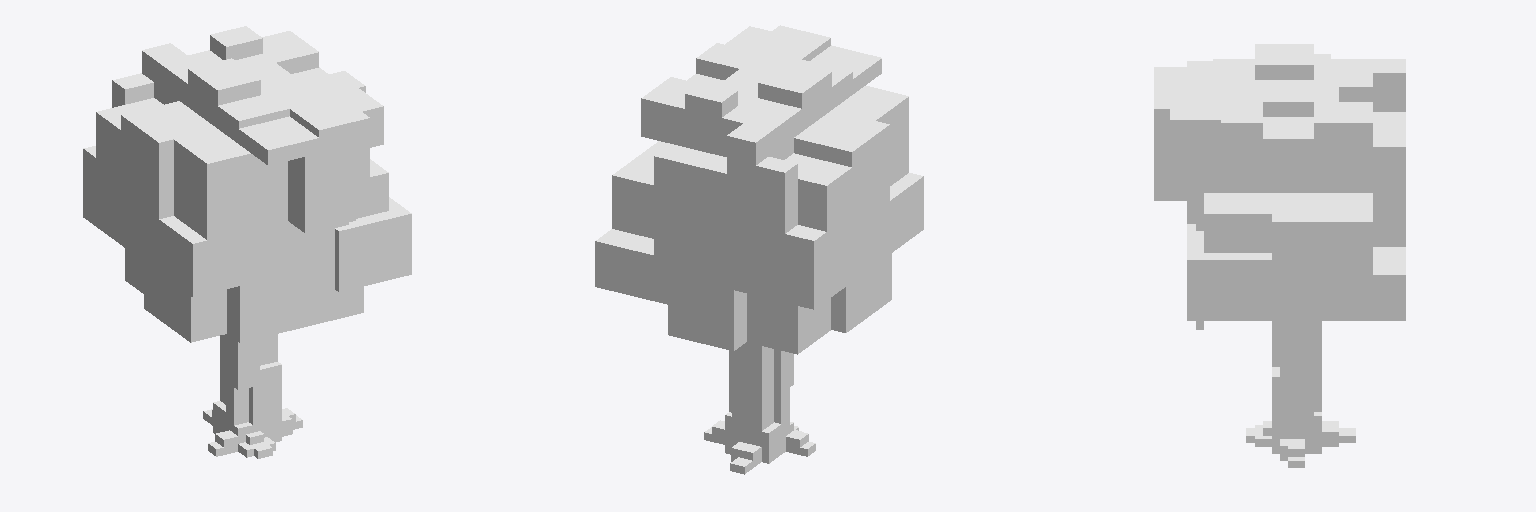
Rendered from Hospital-34.obj.
3 views of the same model, side by side, from view 1: azimuth 30°, elevation 25°; view 2: azimuth 150°, elevation 25°; view 3: azimuth 270°, elevation 25° (orthographic).
Visible parts, largest first — view 1: object 1; view 2: object 1; view 3: object 1.
Boxes of the visible parts, x1,y1,x2,y2 form: object 1: [83, 26, 411, 458]; object 1: [595, 25, 923, 474]; object 1: [1154, 44, 1405, 467].
Size of the model in its own units: 3 by 4.9 by 3.